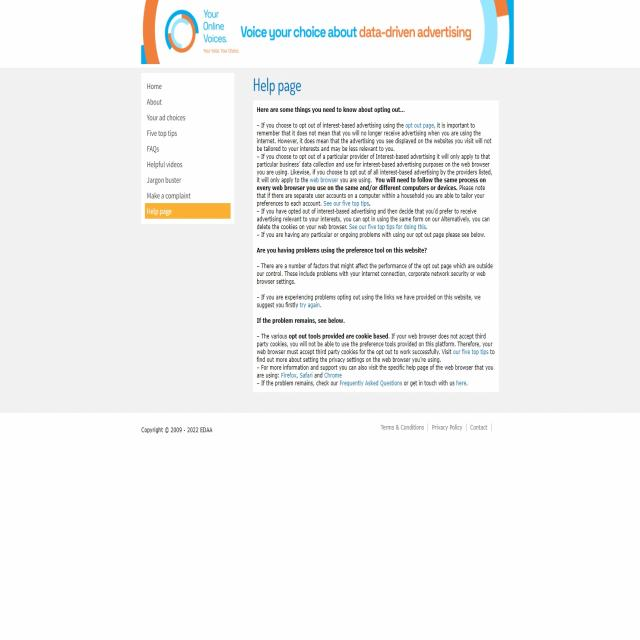content: (141, 72, 234, 223)
menu-bar: (377, 419, 494, 437)
